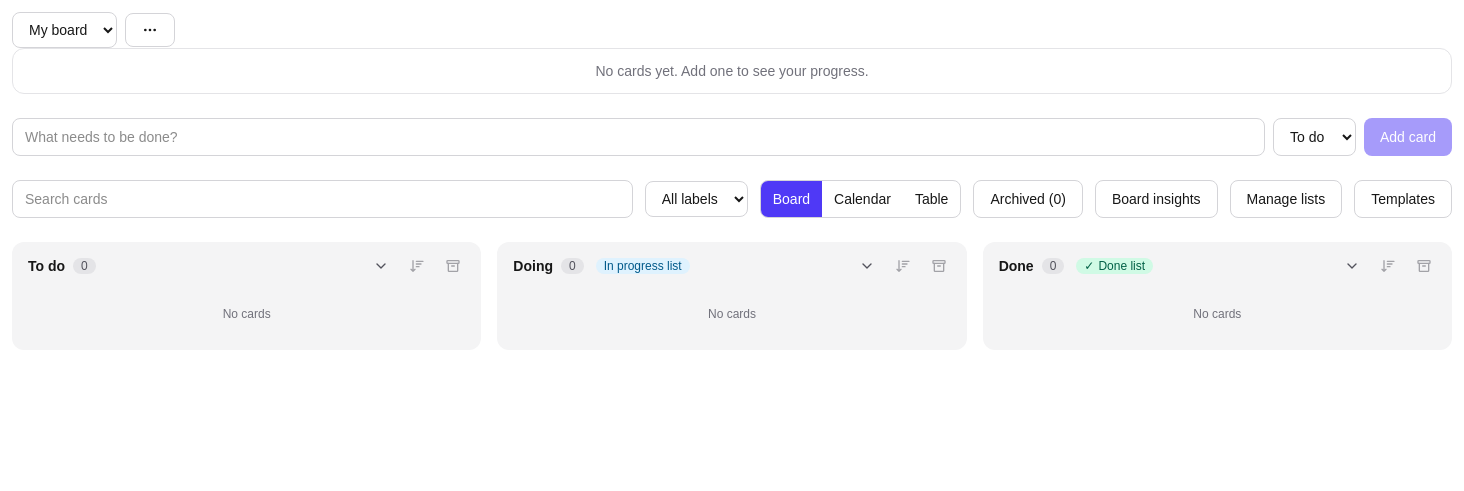
Scenario: <BoardSwitcher /> › collapse and expand all lists › collapses and expands every list
The image size is (1464, 491).
Click the button named "Board actions".
click(150, 30)  # box [125,13,175,47]
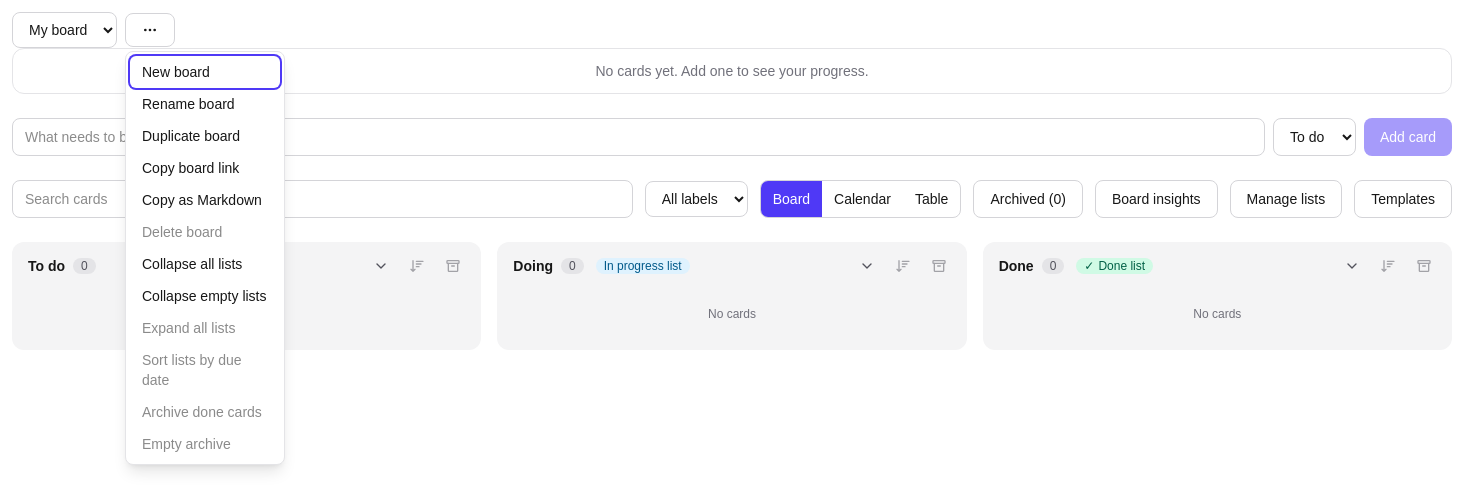
Click the menu item "Collapse all lists".
click(205, 264)  # box [130,248,280,280]
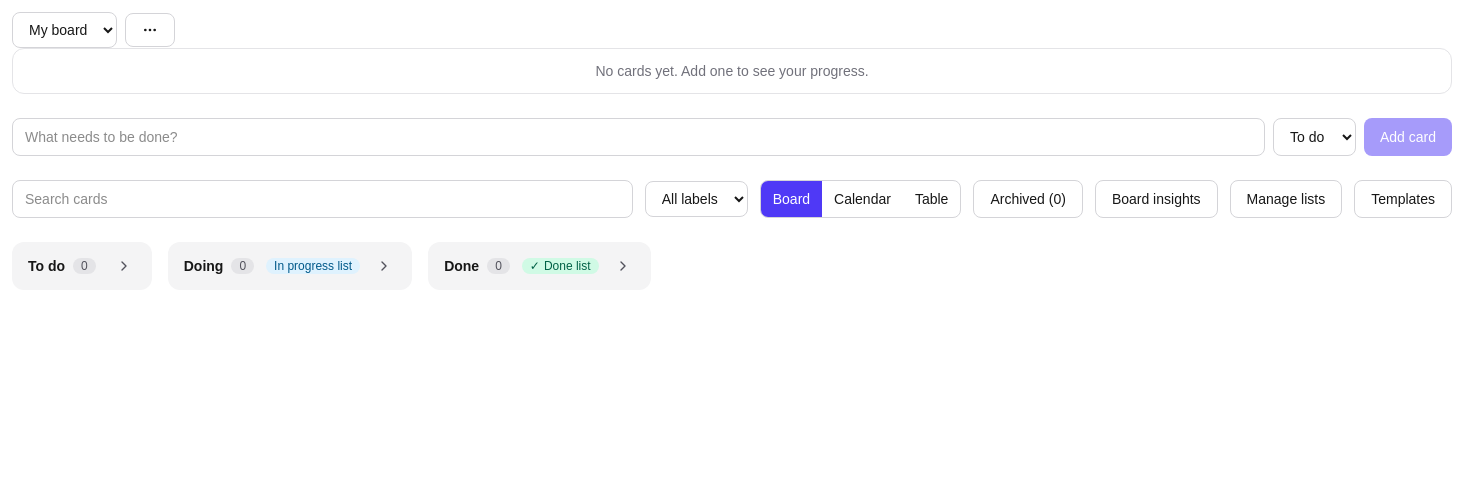
Expected: the button named "Expand To do" is shown, [108,254,140,278]
Expected: the button named "Expand Doing" is shown, [368,254,400,278]
Expected: the button named "Expand Done" is shown, [607,254,639,278]
Click the button named "Board actions".
click(150, 30)  # box [125,13,175,47]
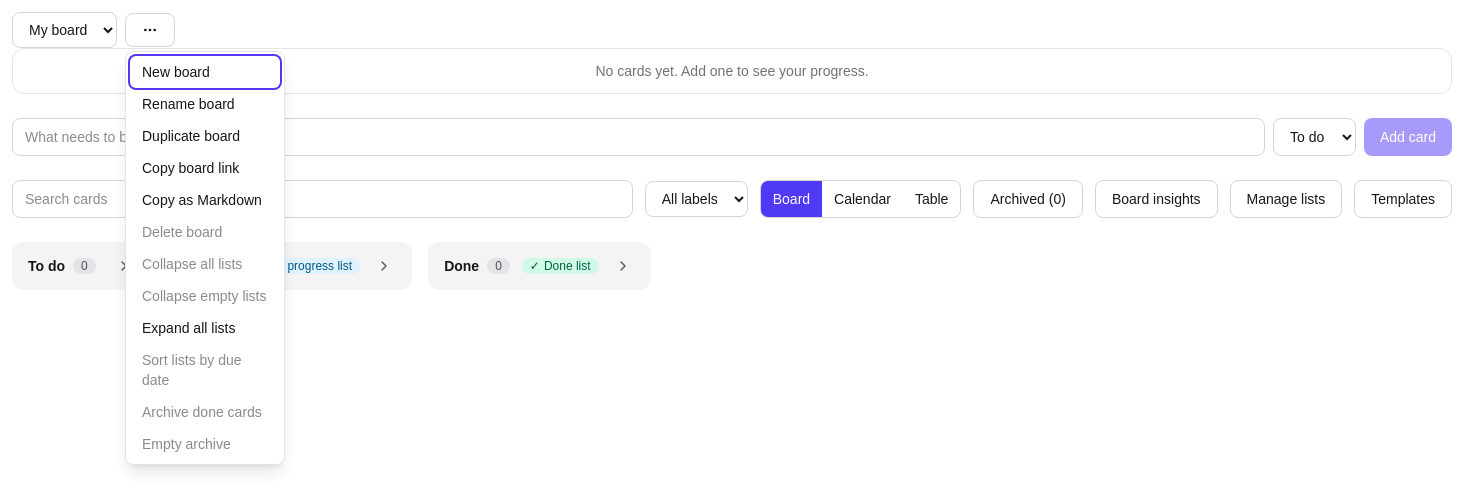
Click the menu item "Expand all lists".
click(205, 328)  # box [130,312,280,344]
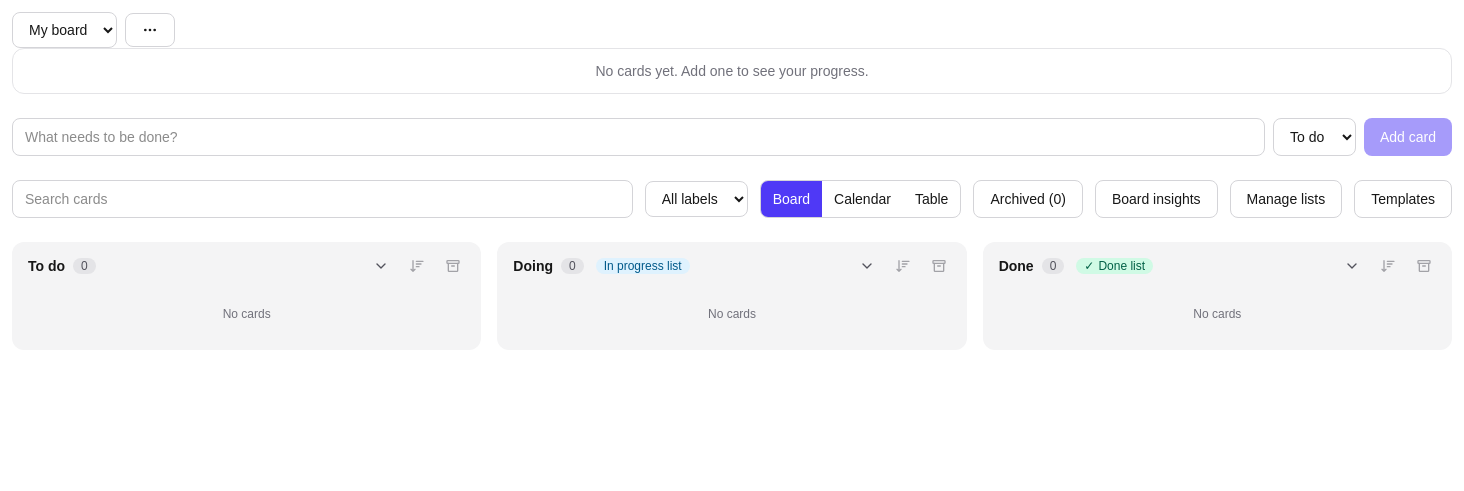
Expected: the button named "Collapse To do" is shown, [365,254,397,278]
Expected: the button named "Collapse Done" is shown, [1336,254,1368,278]
